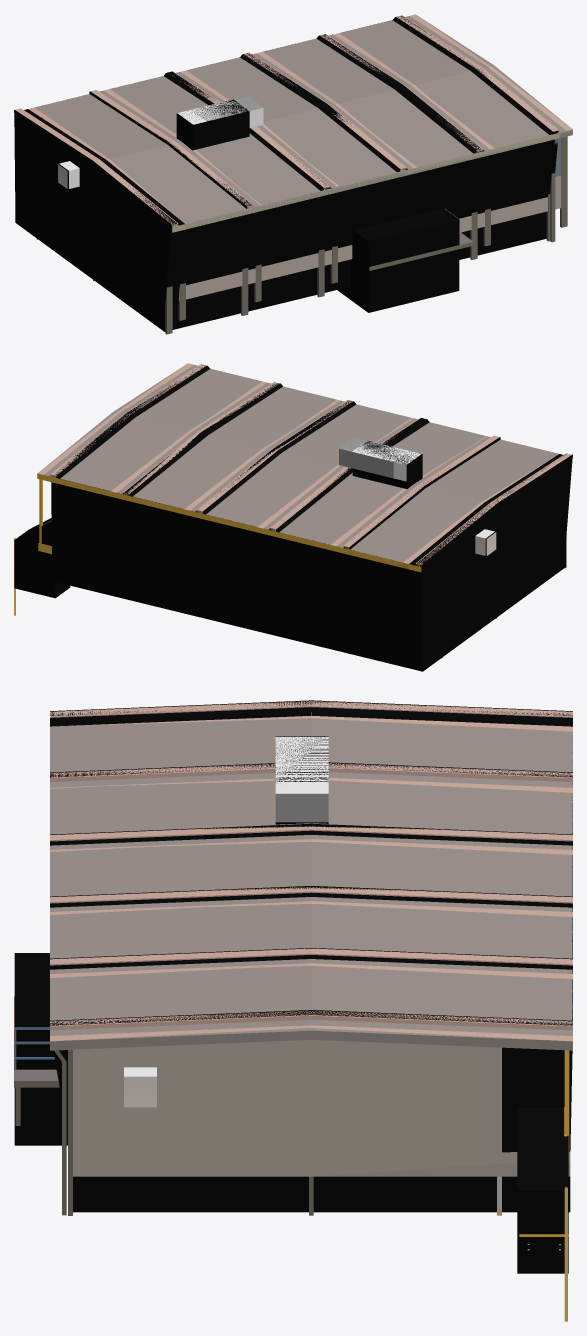
File: office_mobile4_reverse.dae
3 views of the same model, one above another, from view 1: azimuth 30°, elevation 25°; view 2: azimuth 150°, elevation 25°; view 3: azimuth 270°, elevation 25° (orthographic). The views are drawn at different scales.
Parts seen in each view (by area): view 1: Colmesh_office_mobile4_reverse-1, office_mobile4_reverse_L60, office_mobile4_reverse_L400, office_mobile4_reverse_L150; view 2: Colmesh_office_mobile4_reverse-1, office_mobile4_reverse_L60, office_mobile4_reverse_L400, office_mobile4_reverse_L150; view 3: office_mobile4_reverse_L60, Colmesh_office_mobile4_reverse-1, office_mobile4_reverse_L400, office_mobile4_reverse_L150.
Part boxes in pixels (box(x1,y1,x2,y2)): Colmesh_office_mobile4_reverse-1: box(14, 15, 558, 331); office_mobile4_reverse_L60: box(34, 15, 572, 300); office_mobile4_reverse_L400: box(15, 15, 559, 334); office_mobile4_reverse_L150: box(28, 14, 572, 320); Colmesh_office_mobile4_reverse-1: box(14, 365, 572, 671); office_mobile4_reverse_L60: box(37, 363, 558, 568); office_mobile4_reverse_L400: box(14, 364, 571, 658); office_mobile4_reverse_L150: box(37, 363, 558, 568); office_mobile4_reverse_L60: box(50, 718, 572, 1176); Colmesh_office_mobile4_reverse-1: box(14, 700, 572, 1273); office_mobile4_reverse_L400: box(14, 701, 572, 1321); office_mobile4_reverse_L150: box(14, 715, 572, 1209).
Bounding box in the file's own units: 17.25 × 11.42 × 7.01.
